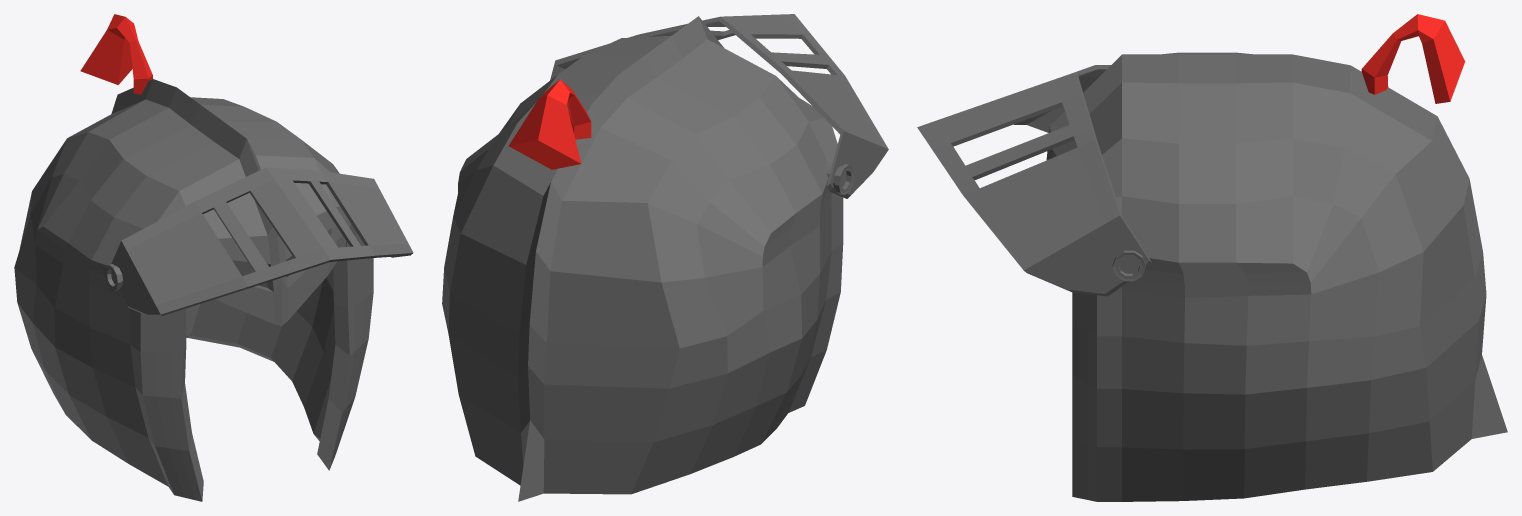
File: helmet.fbx
3 renders of one model, left to right at view 1: azimuth 30°, elevation 25°; view 2: azimuth 150°, elevation 25°; view 3: azimuth 270°, elevation 25°, orthographic. The views are drawn at different scales.
Parts seen in each view (by area): view 1: Plane; view 2: Plane; view 3: Plane.
Boxes of the visible parts, x1,y1,x2,y2 form: Plane: [14, 14, 413, 501]; Plane: [442, 14, 888, 501]; Plane: [917, 14, 1507, 501].
Size of the model in its own units: 235 by 290 by 348.
